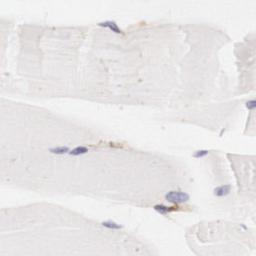nucleus: (95, 20, 119, 34), (166, 193, 190, 202), (70, 145, 89, 156), (213, 185, 230, 197), (101, 220, 122, 229), (48, 147, 68, 154), (193, 149, 209, 157), (154, 206, 167, 213), (246, 99, 256, 108)
positive_cell: (154, 204, 186, 213)
